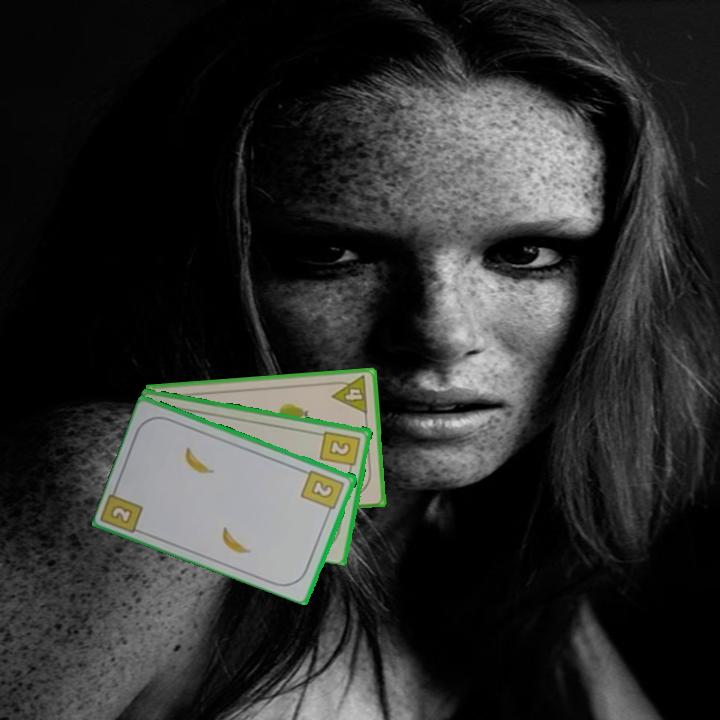2b: (298, 466, 348, 517), (317, 427, 363, 474), (107, 501, 136, 527)
4p: (328, 372, 371, 417)
